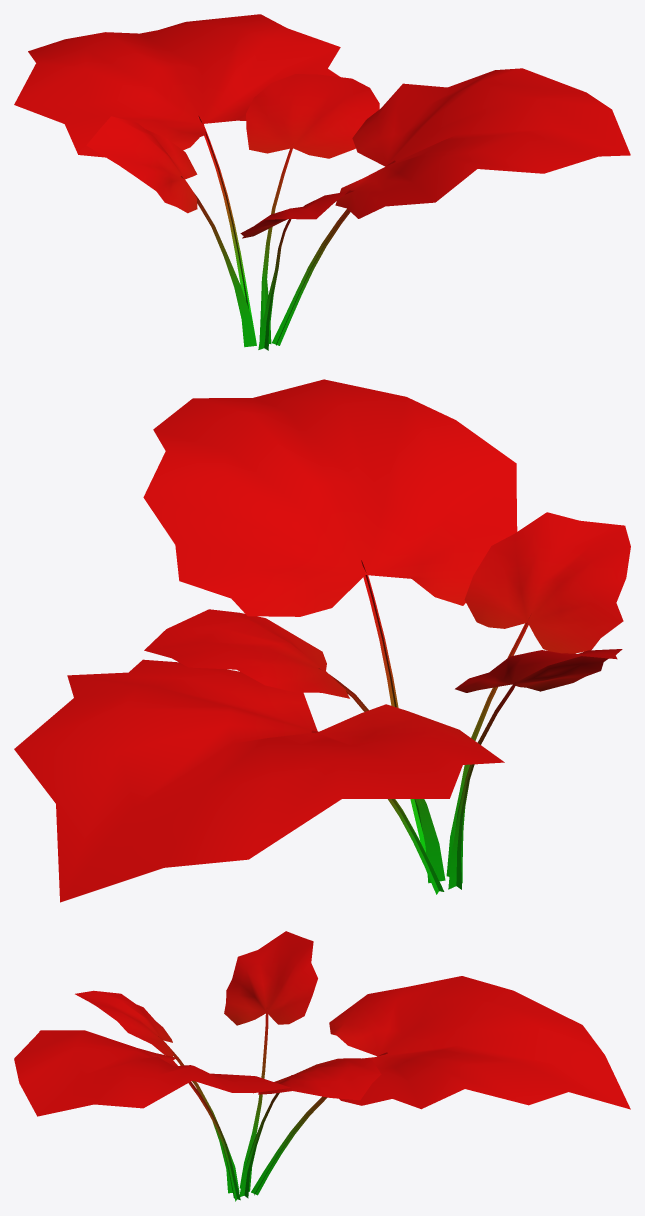
Rendered from Coltsfoot_LOD2_Var4_xbtkdfvqx.fbx.
The picture shows the model from 3 angles, top to bottom: view 1: azimuth 30°, elevation 25°; view 2: azimuth 150°, elevation 25°; view 3: azimuth 270°, elevation 25°; orthographic projection. The views are drawn at different scales.
Parts seen in each view (by area): view 1: _8xnf_Var4_LOD2; view 2: _8xnf_Var4_LOD2; view 3: _8xnf_Var4_LOD2.
Part boxes in pixels (x1,y1,x2,y2): _8xnf_Var4_LOD2: (14, 14, 630, 350); _8xnf_Var4_LOD2: (14, 379, 630, 902); _8xnf_Var4_LOD2: (14, 931, 630, 1201).
Size of the model in its own units: 21.49 by 12.04 by 30.33.
